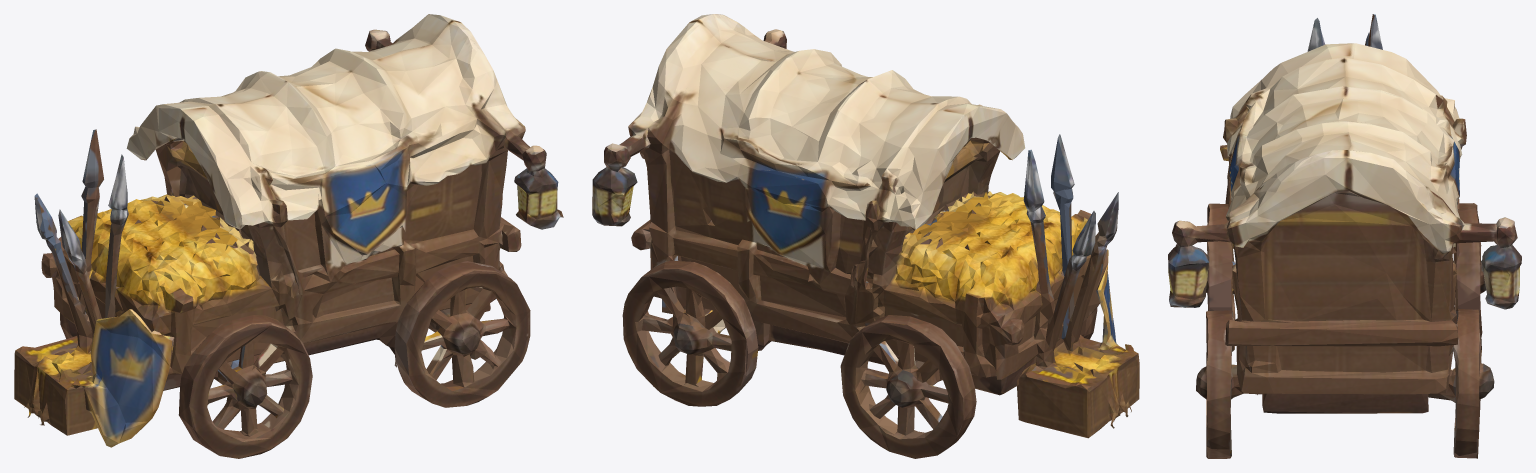
Rendered from kingdom_supply_wagon_1117.glb.
3 renders of one model, left to right at view 1: azimuth 30°, elevation 25°; view 2: azimuth 150°, elevation 25°; view 3: azimuth 270°, elevation 25°, orthographic.
Parts seen in each view (by area): view 1: tmpjt196_wt.ply; view 2: tmpjt196_wt.ply; view 3: tmpjt196_wt.ply.
Part boxes in pixels (left/top/right/bottom): tmpjt196_wt.ply: left=14, top=14, right=563, bottom=458; tmpjt196_wt.ply: left=592, top=14, right=1139, bottom=458; tmpjt196_wt.ply: left=1168, top=14, right=1521, bottom=458.
Size of the model in its own units: 1.97 by 1.36 by 1.33.
Materials: 1 (1 with a texture image).
